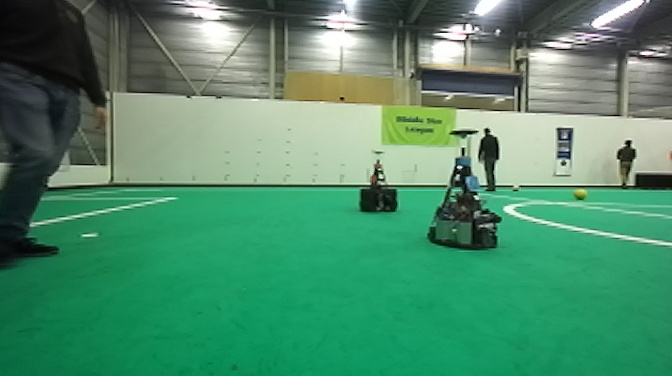ball: (572, 186, 587, 202), (510, 182, 521, 192)
human: (1, 1, 108, 268), (477, 125, 500, 193), (615, 132, 638, 191)
robot: (425, 129, 503, 253), (358, 150, 399, 214)
